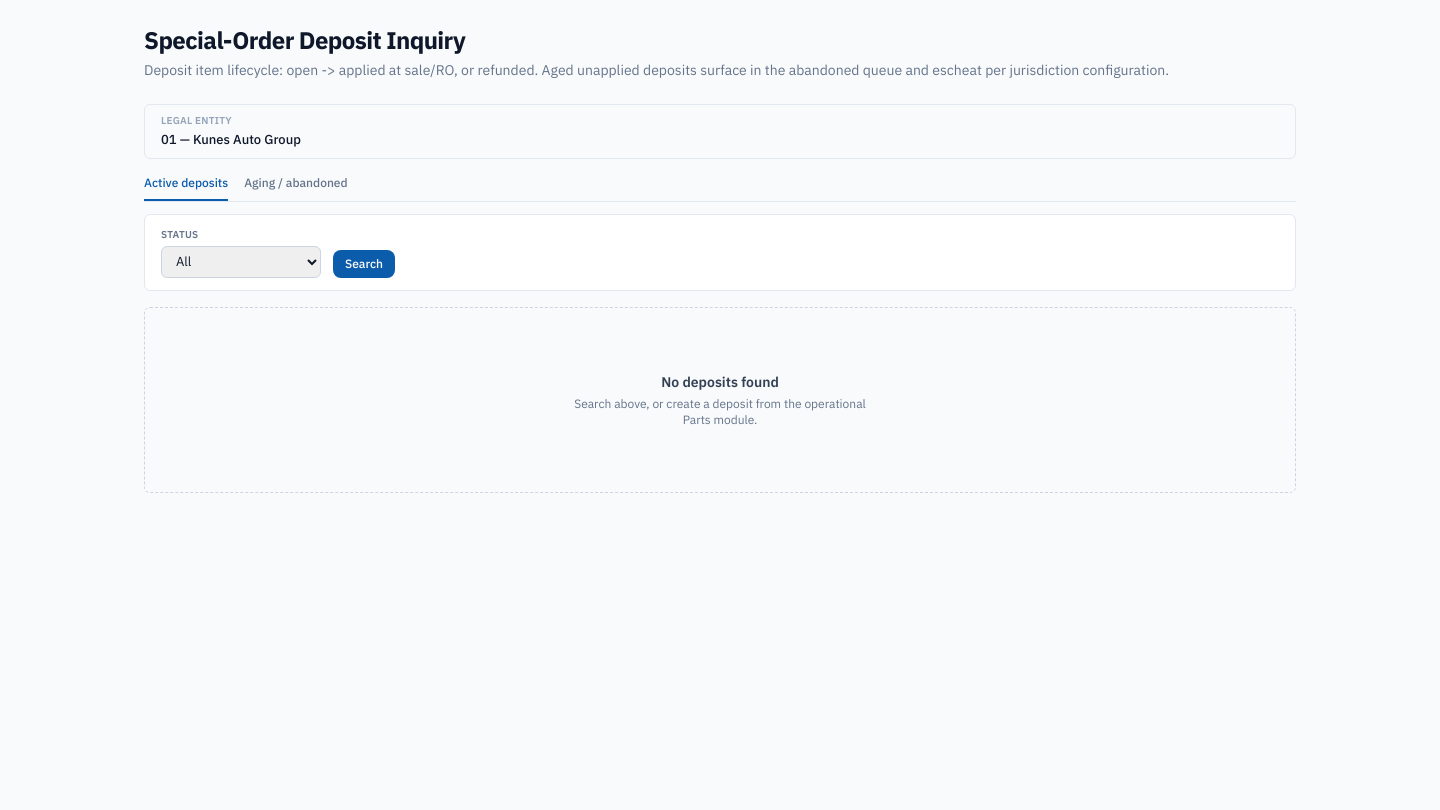
Test case: PartsDeposits › shows the refusal reason inline when a refund is refused
Click the button with test id "deposits-search" at [364, 264], box [333, 250, 395, 278]
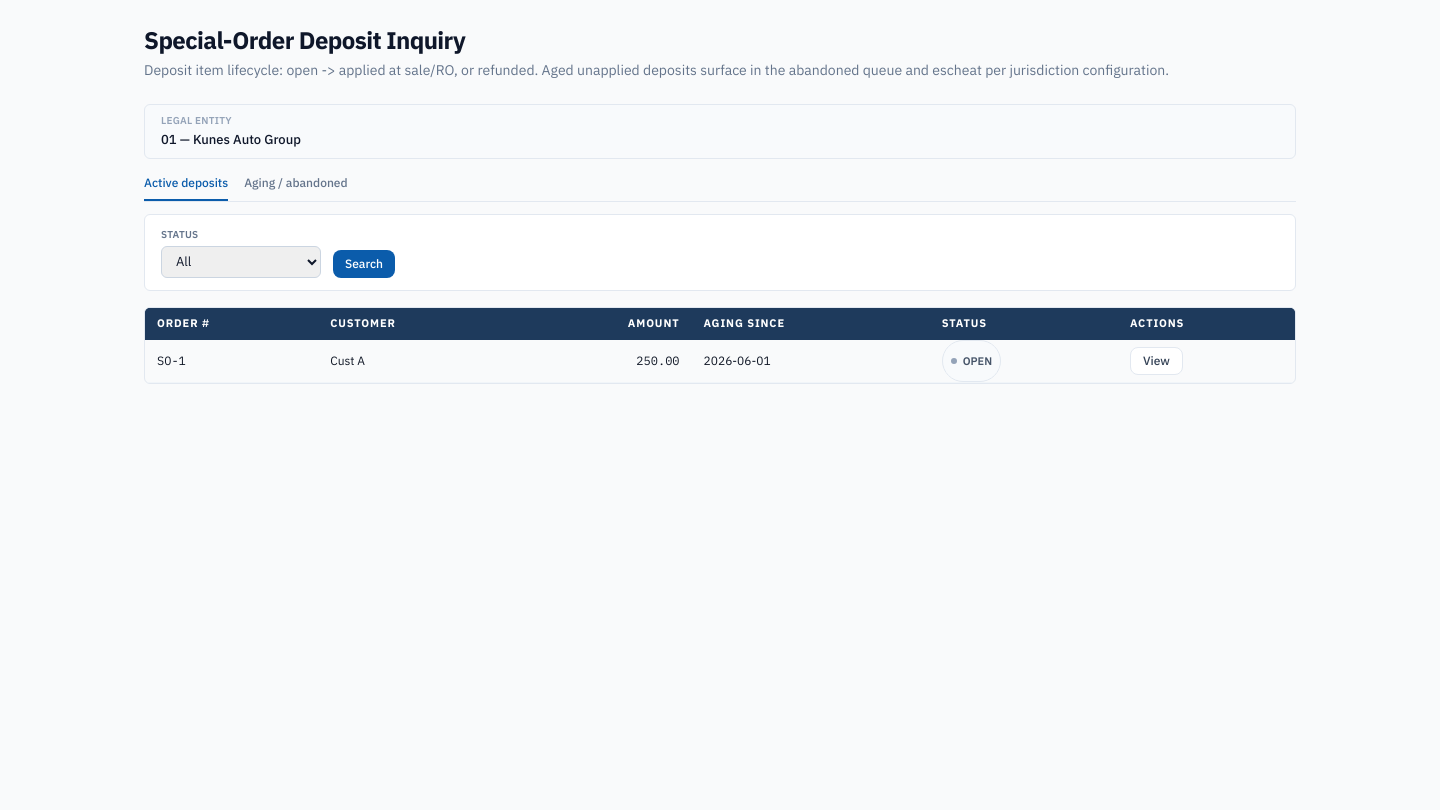
Check: the table with test id "deposits-table" is shown, box [145, 308, 1295, 382]
Click the button with test id "deposit-view-SO-1" at [1156, 360], box [1130, 346, 1183, 374]
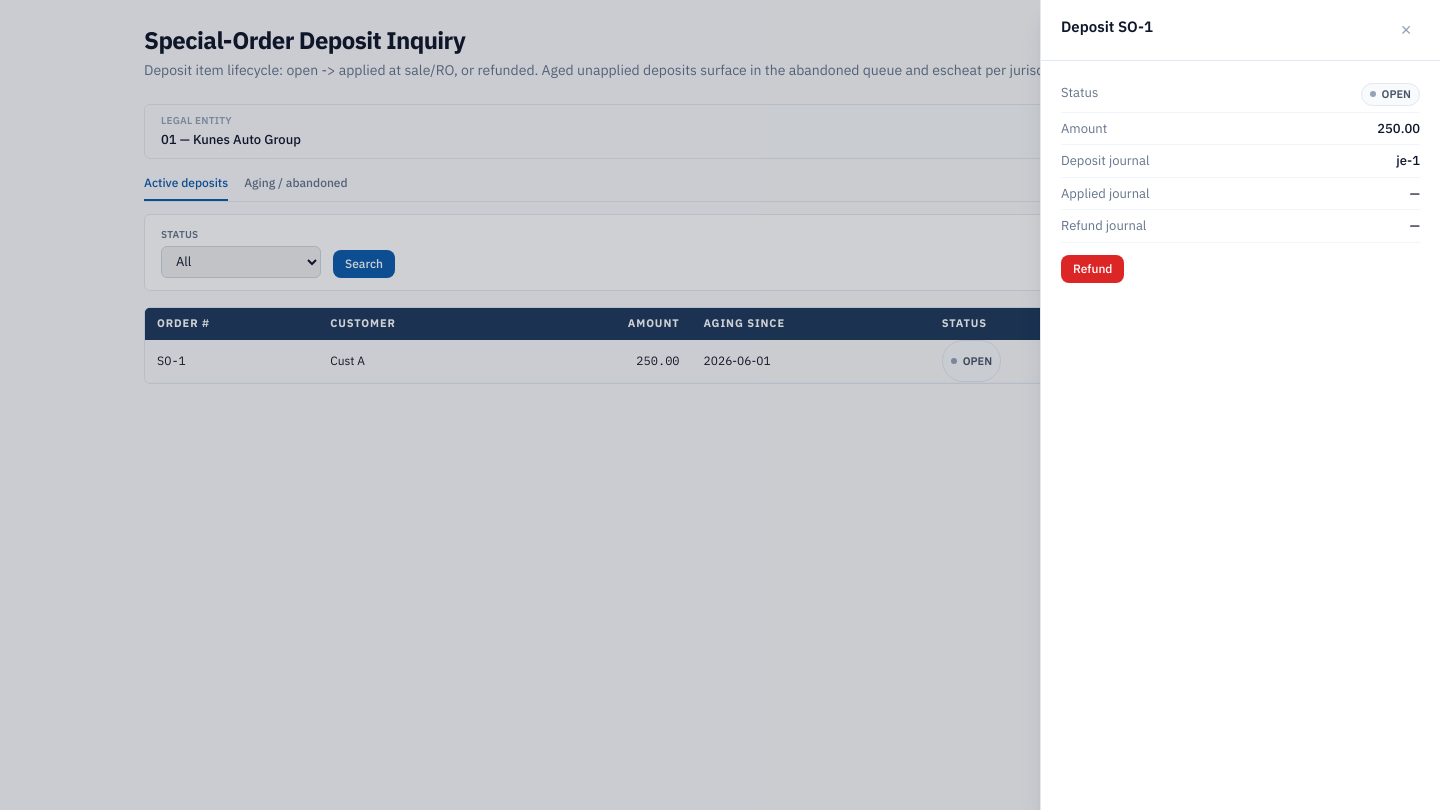
Check: the dialog with test id "deposit-drawer" is shown, box [1040, 0, 1439, 809]
Click the button with test id "deposit-refund" at [1093, 268], box [1061, 254, 1124, 282]
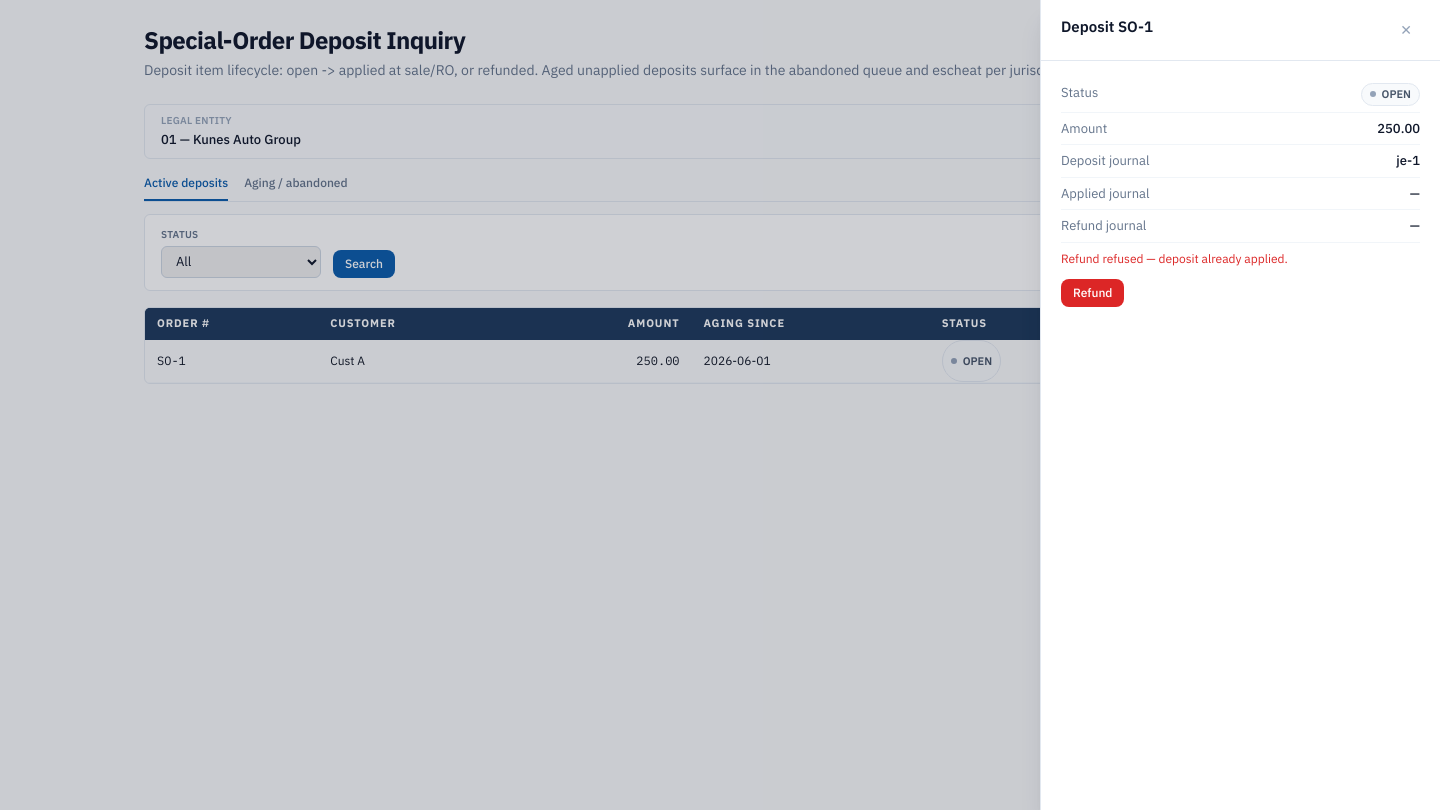
Check: the text with test id "deposit-action-error" shows "already applied", box [1061, 250, 1288, 266]
